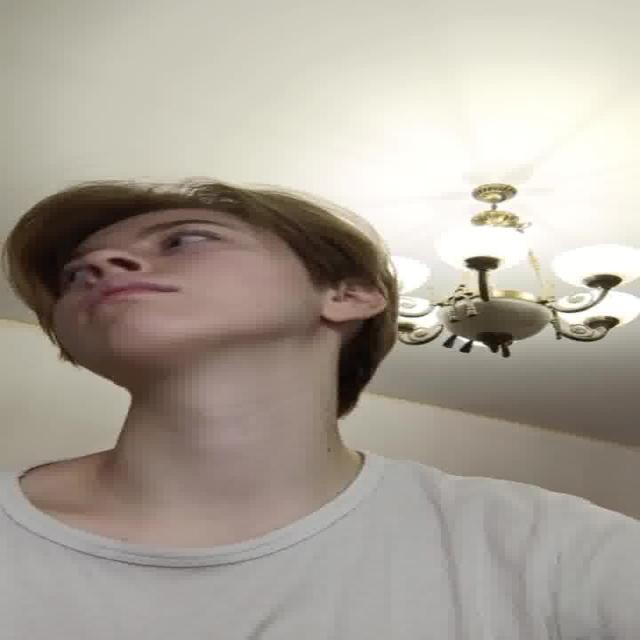earlobe: (322, 274, 386, 323)
